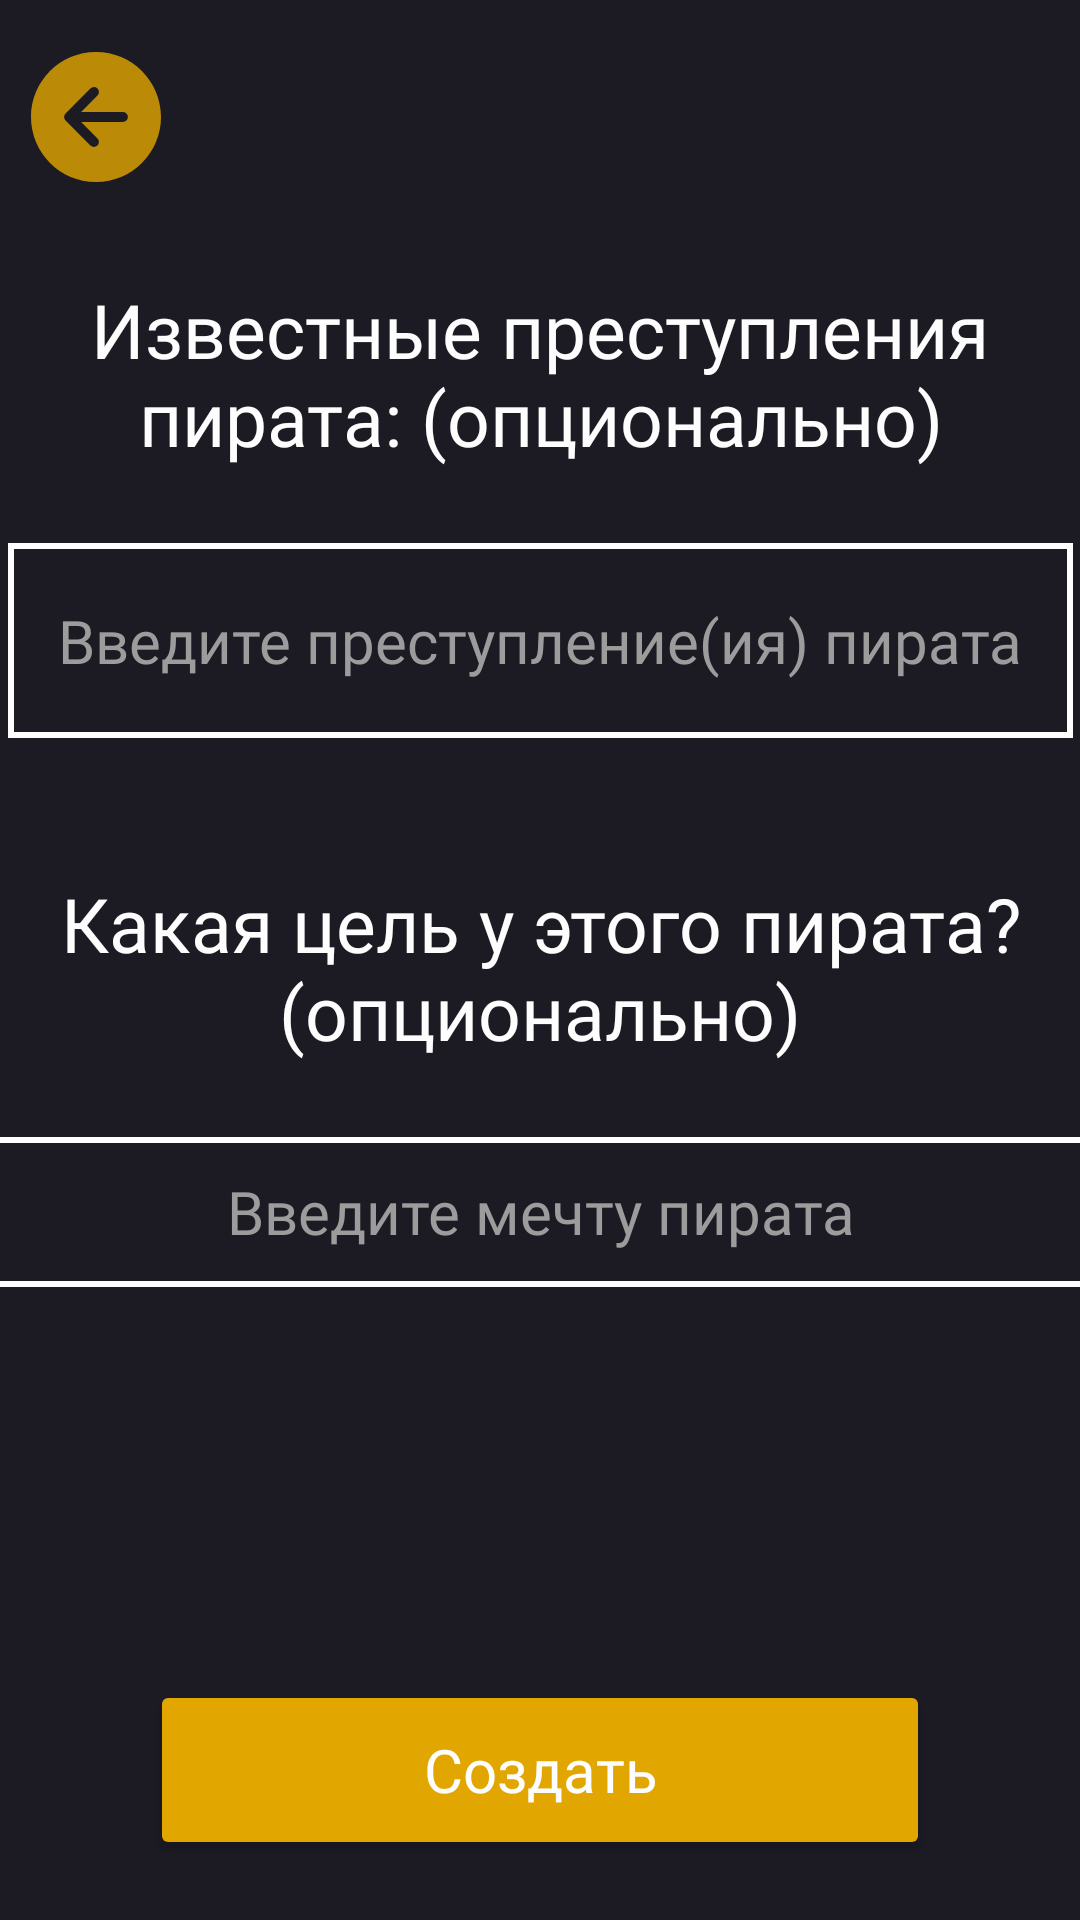

Icon bounding boxes for this 1080px×1920px phone screenshot, format (x1, y1, x2, y2):
Вернуться на предыдущий экран: (31, 52, 161, 182)
